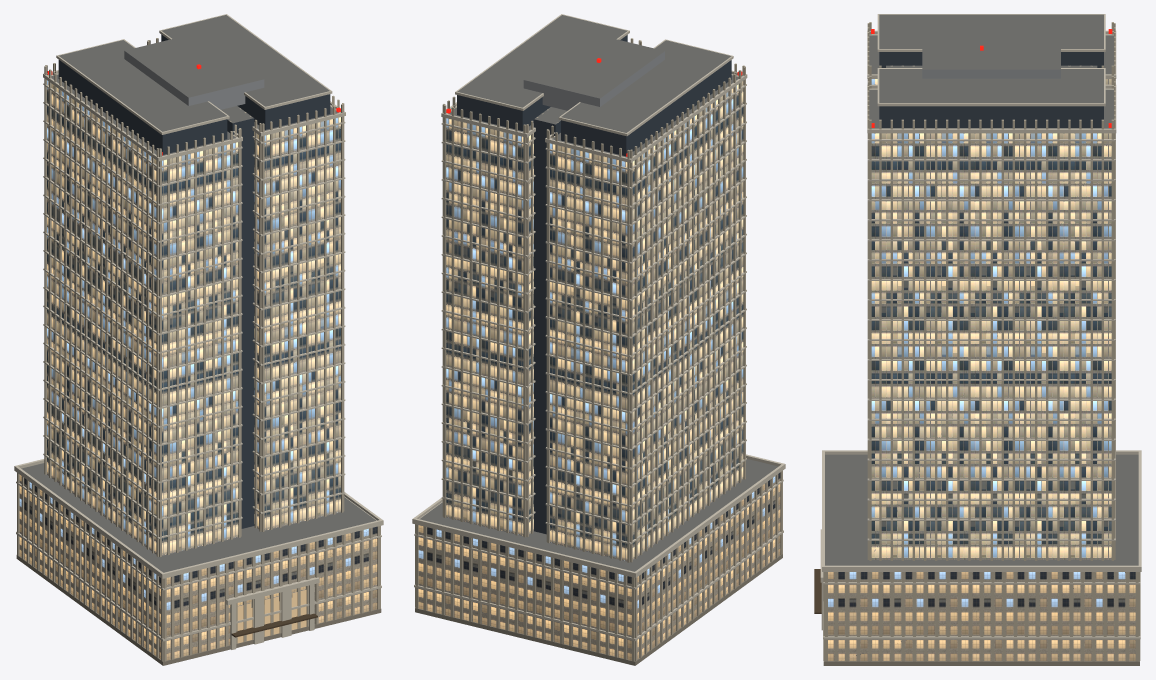
File: marunouchi_building.glb
The picture shows the model from 3 angles, left to right: view 1: azimuth 30°, elevation 25°; view 2: azimuth 150°, elevation 25°; view 3: azimuth 270°, elevation 25°; orthographic projection. The views are drawn at different scales.
Visible parts, largest first — view 1: marunouchi_building; view 2: marunouchi_building; view 3: marunouchi_building.
Part boxes in pixels (box(x1,y1,x2,y2)): marunouchi_building: box(14, 14, 383, 665); marunouchi_building: box(412, 14, 785, 665); marunouchi_building: box(814, 14, 1141, 665).
Size of the model in its own units: 80 by 180 by 95.
Materials: 3 (3 with a texture image).
